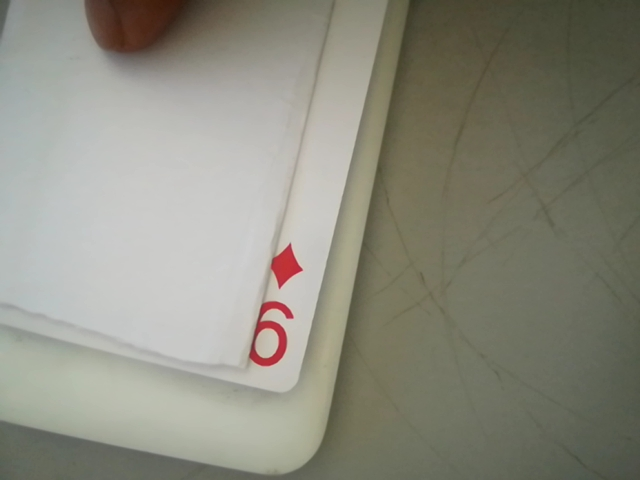fk 9: (236, 237, 320, 386)
